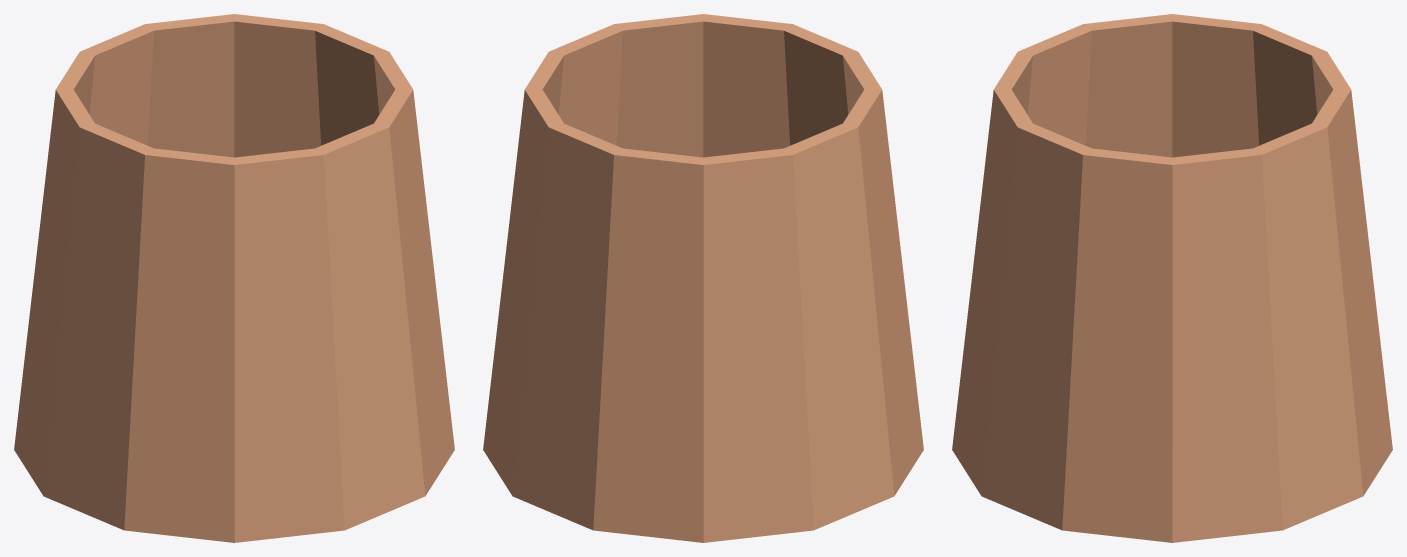
Rendered from LampShade.fbx.
The picture shows the model from 3 angles, left to right: view 1: azimuth 30°, elevation 25°; view 2: azimuth 150°, elevation 25°; view 3: azimuth 270°, elevation 25°; orthographic projection.
Parts seen in each view (by area): view 1: Cylinder.001; view 2: Cylinder.001; view 3: Cylinder.001.
Part boxes in pixels (box(x1,y1,x2,y2)): Cylinder.001: box(14, 14, 454, 542); Cylinder.001: box(483, 14, 923, 542); Cylinder.001: box(952, 14, 1392, 542).
Bounding box in the file's own units: 112 × 101 × 112.
